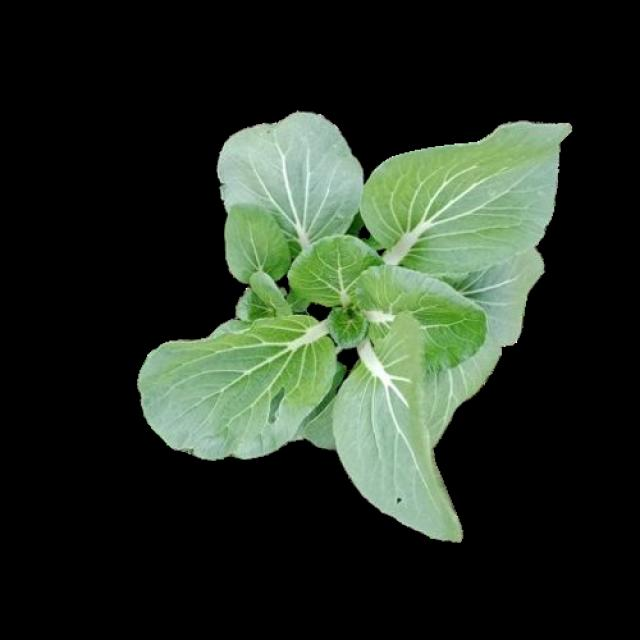mature: (142, 111, 572, 539)
unhealthy: (143, 312, 344, 461)
